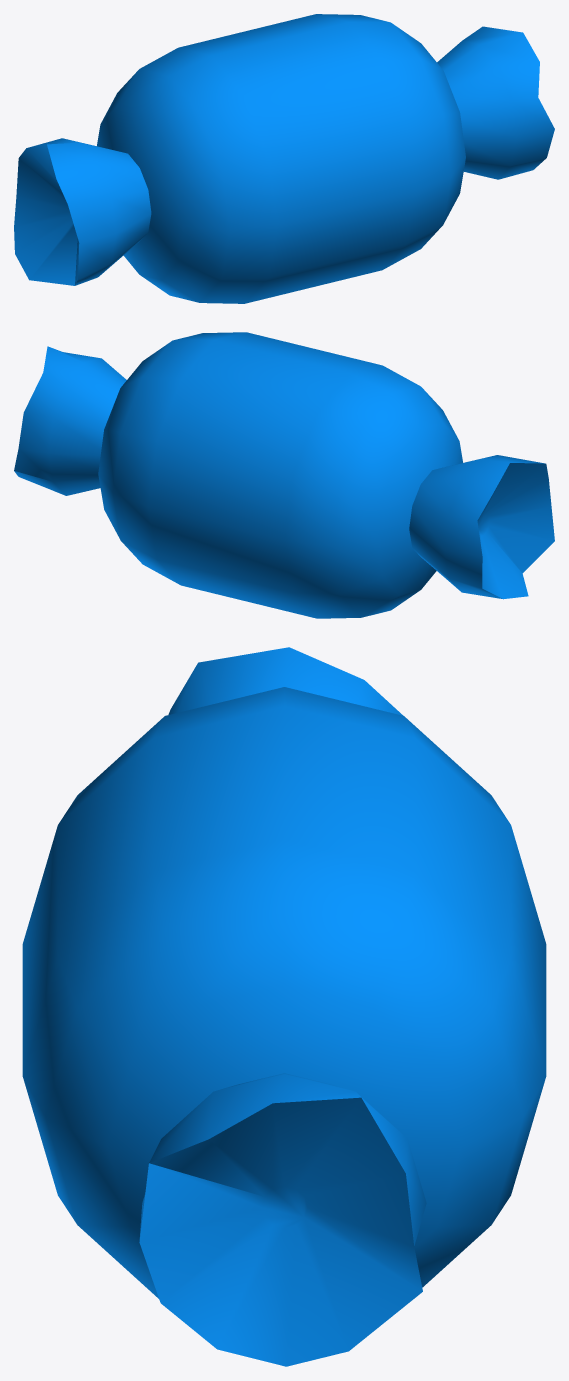
The model's file is Candy_2.fbx.
The picture shows the model from 3 angles, top to bottom: view 1: azimuth 30°, elevation 25°; view 2: azimuth 150°, elevation 25°; view 3: azimuth 270°, elevation 25°; orthographic projection. The views are drawn at different scales.
Visible parts, largest first — view 1: Candy_2; view 2: Candy_2; view 3: Candy_2.
Part boxes in pixels (bbox=[...]): Candy_2: bbox=[14, 14, 554, 303]; Candy_2: bbox=[14, 332, 554, 618]; Candy_2: bbox=[22, 647, 546, 1366].
Size of the model in its own units: 0.0245 by 0.0112 by 0.0112.
